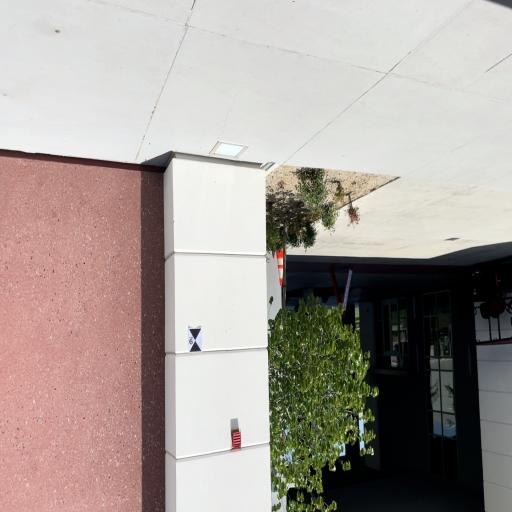target9: (188, 328, 202, 352)
